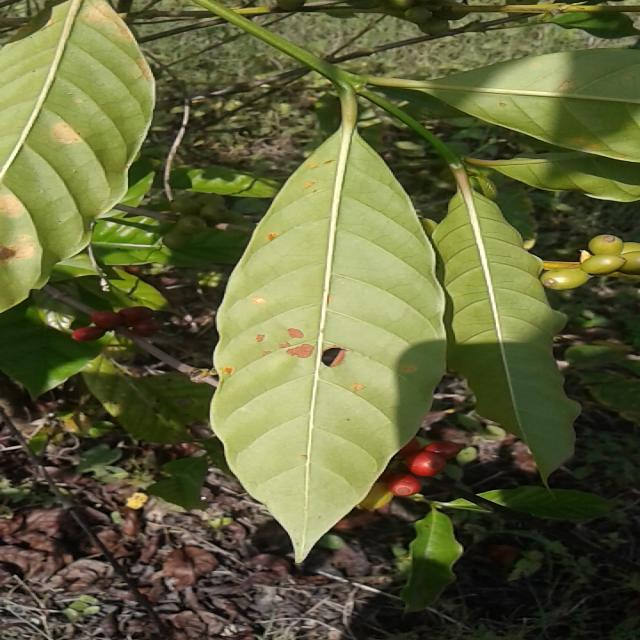Plaga-AranaRoja: (209, 96, 454, 566)
